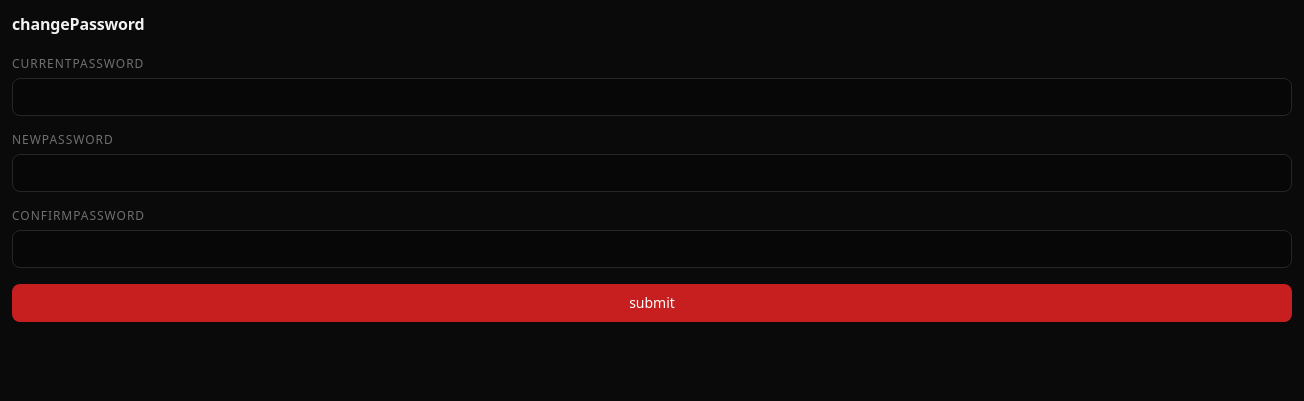
Test case: ChangePasswordForm › should show same password error
Type "samepass1" into the password field labelled "currentPassword" at (652, 97), box x1=12 y1=78 x2=1292 y2=116
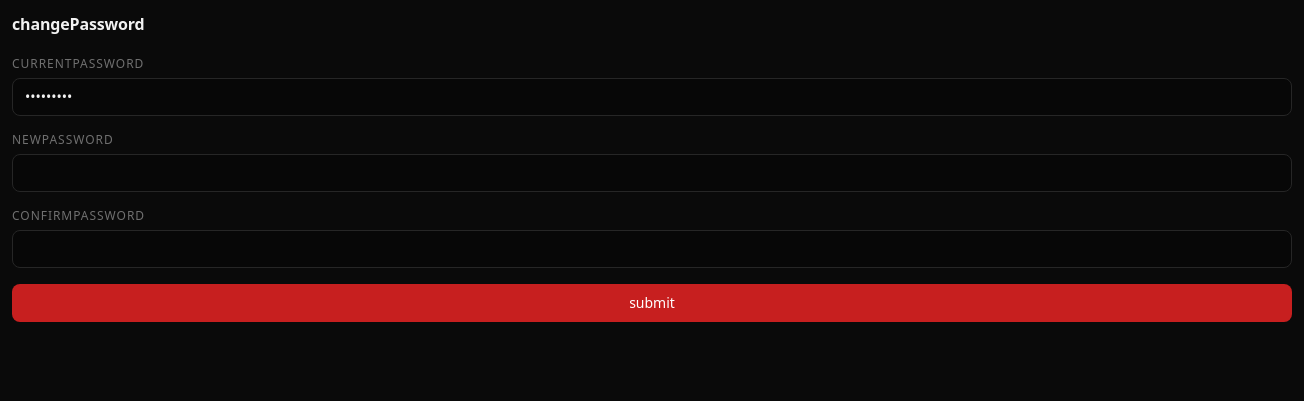
Type "samepass1" into the password field labelled "newPassword" at (652, 173), box x1=12 y1=154 x2=1292 y2=192
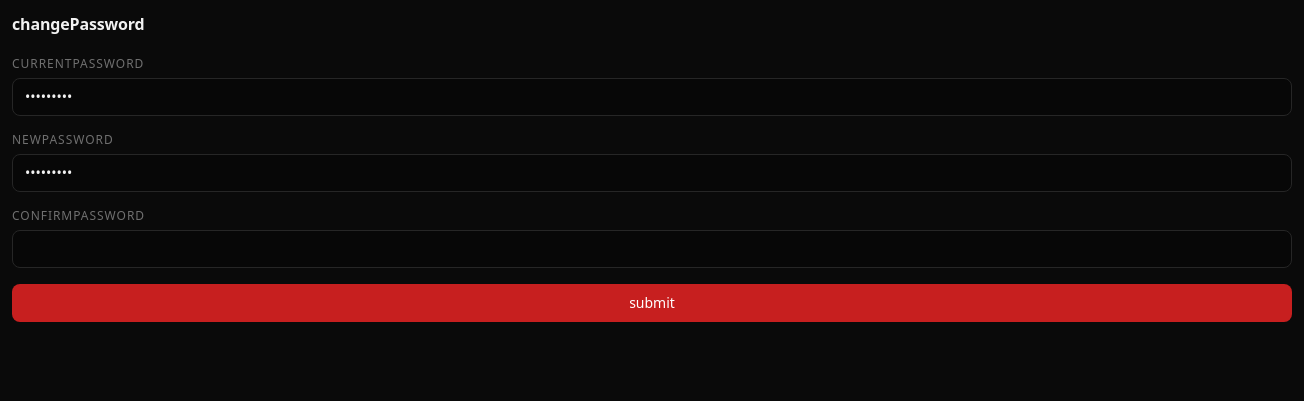
Type "samepass1" into the password field labelled "confirmPassword" at (652, 249), box x1=12 y1=230 x2=1292 y2=268
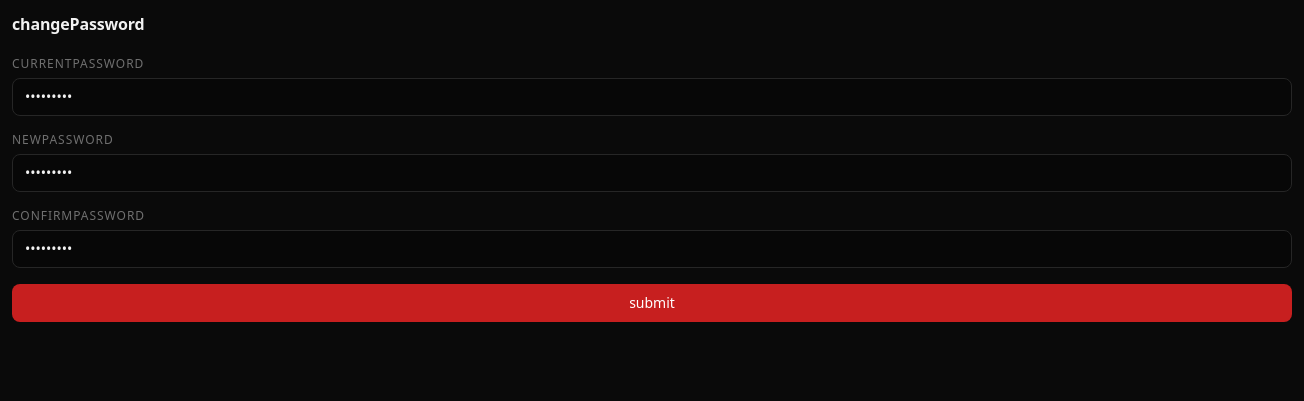
Click the button "submit" at (652, 303), box x1=12 y1=284 x2=1292 y2=322
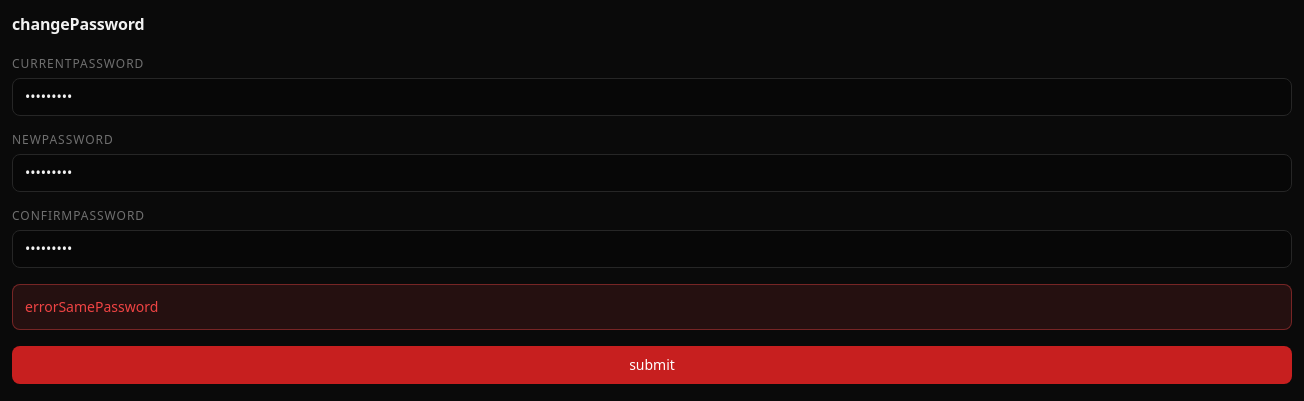
Expected: the message reads "errorSamePassword", x1=25 y1=297 x2=158 y2=316
